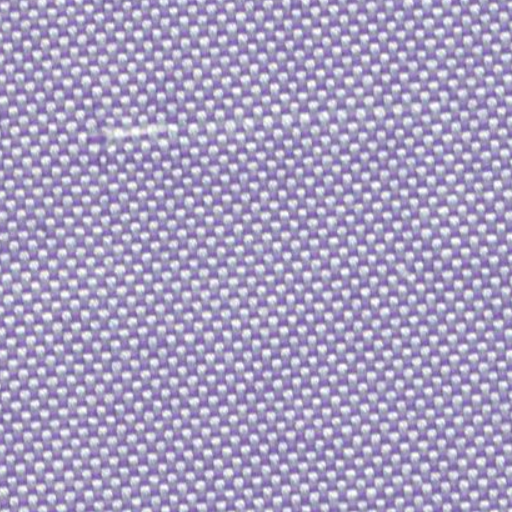DaiSha: (89, 102, 440, 144)
